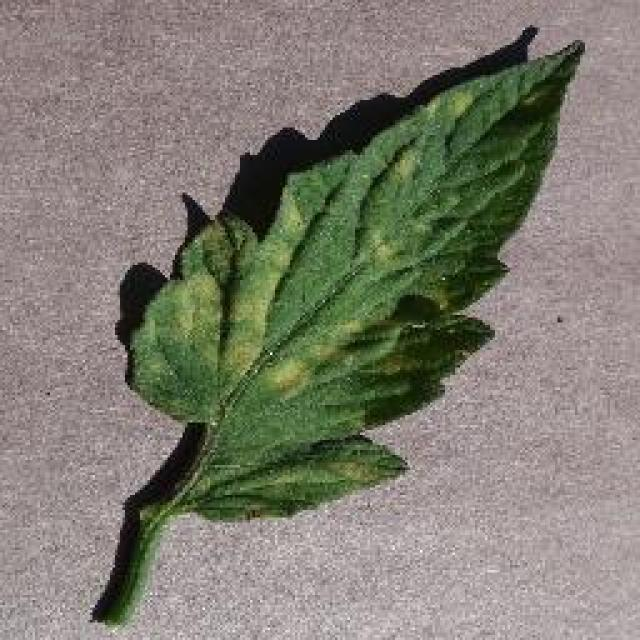Tomato___Leaf_Mold: (92, 42, 582, 622)
